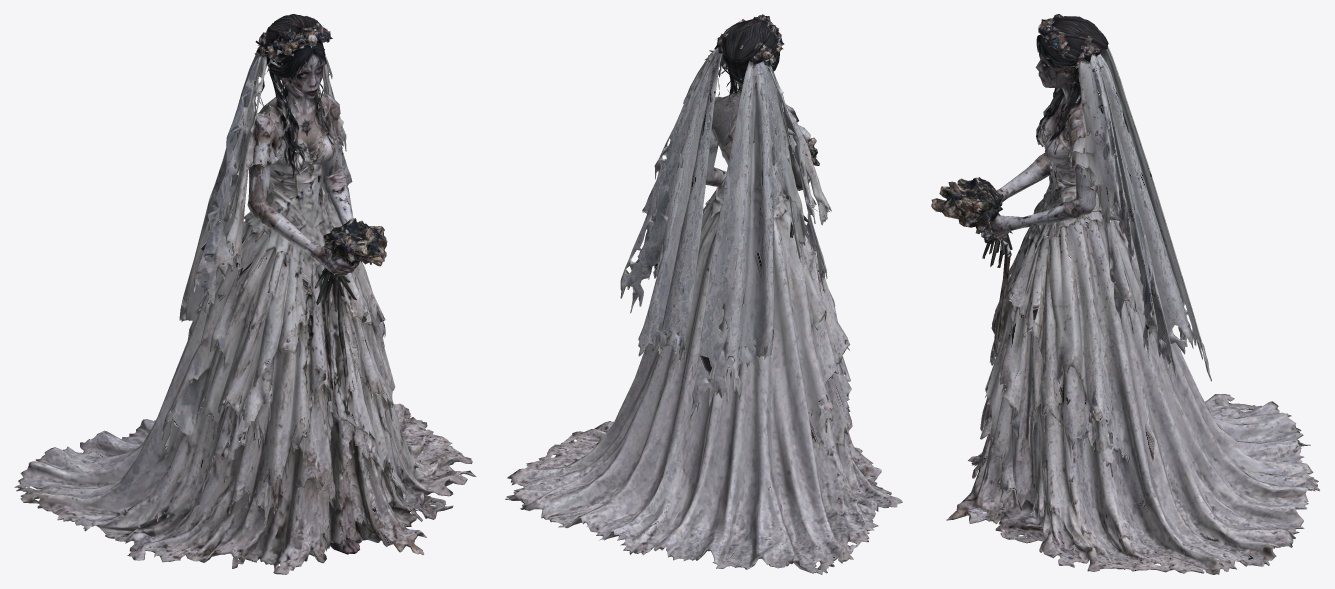
The model's file is bride.glb.
3 views of the same model, side by side, from view 1: azimuth 30°, elevation 25°; view 2: azimuth 150°, elevation 25°; view 3: azimuth 270°, elevation 25° (orthographic). The views are drawn at different scales.
Visible parts, largest first — view 1: bride; view 2: bride; view 3: bride.
Boxes of the visible parts, x1,y1,x2,y2 form: bride: (14,14,476,574); bride: (505,14,902,574); bride: (931,14,1319,574).
Bounding box in the file's own units: 0.7838 × 0.9772 × 0.7285.
Materials: 1 (1 with a texture image).
